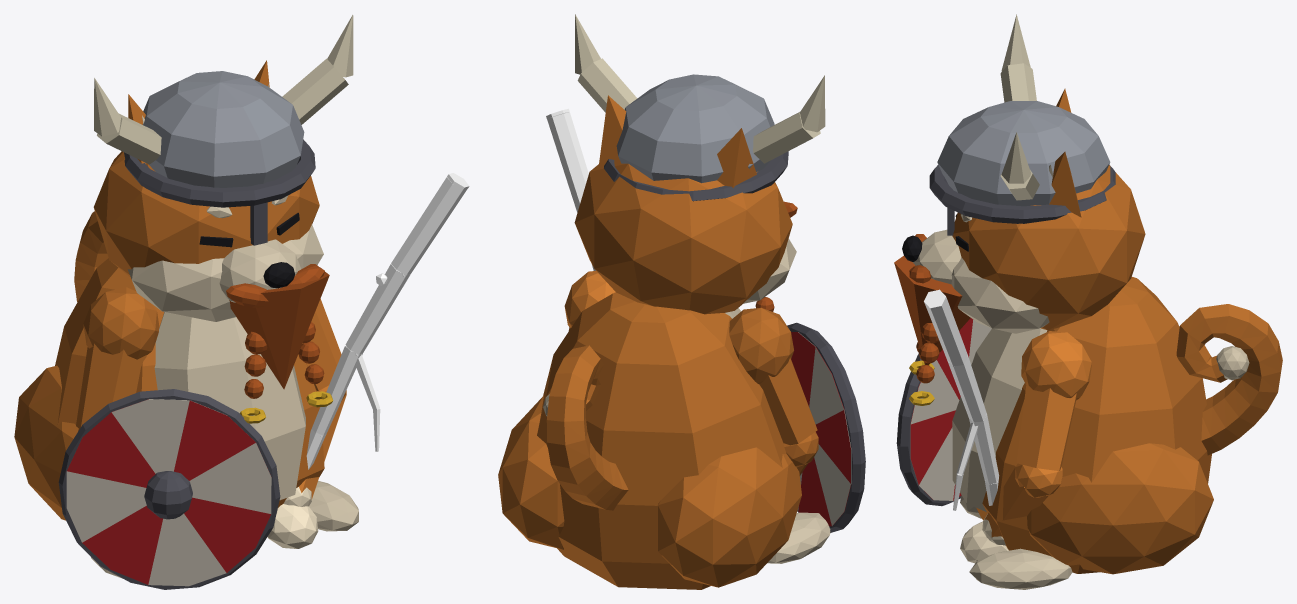
The model's file is VikingShiba.fbx.
3 renders of one model, left to right at view 1: azimuth 30°, elevation 25°; view 2: azimuth 150°, elevation 25°; view 3: azimuth 270°, elevation 25°, orthographic. The views are drawn at different scales.
Visible parts, largest first — view 1: Body, Stick, ThrowArm; view 2: Body, Stick, ThrowArm; view 3: Body, ThrowArm, Stick.
Part boxes in pixels (box(x1,y1,x2,y2)): Body: box(14, 15, 358, 589); Stick: box(306, 173, 469, 469); ThrowArm: box(267, 299, 346, 548); Body: box(498, 14, 865, 589); Stick: box(546, 108, 595, 270); ThrowArm: box(564, 271, 615, 330); Body: box(894, 14, 1282, 589); ThrowArm: box(960, 331, 1091, 563); Stick: box(924, 289, 999, 510).
Bounding box in the file's own units: 1.09 × 1.43 × 1.08.
